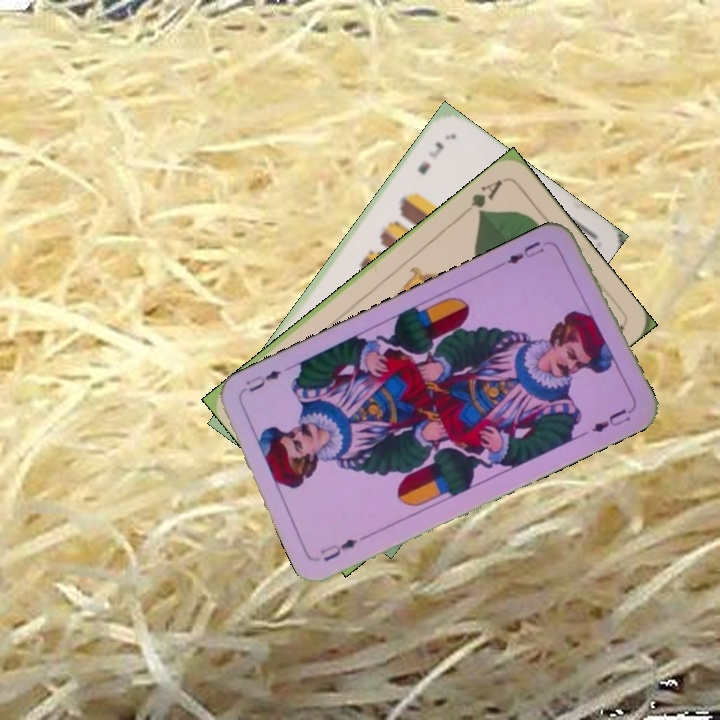E7: (413, 137, 447, 177)
EU: (502, 237, 547, 267), (316, 534, 360, 564)
GA: (458, 175, 506, 218)
